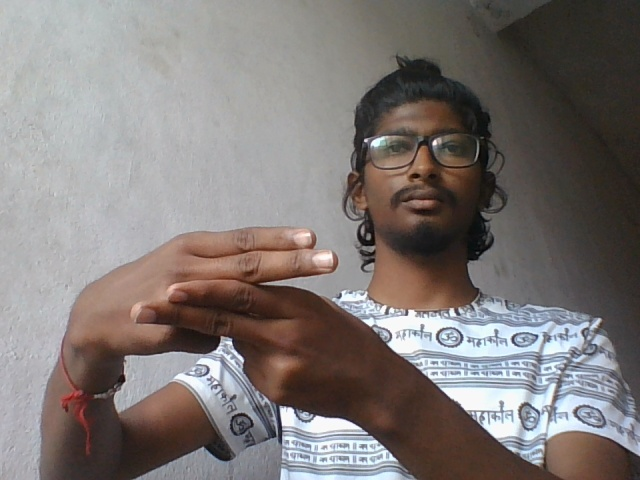Call: (53, 220, 388, 403)
